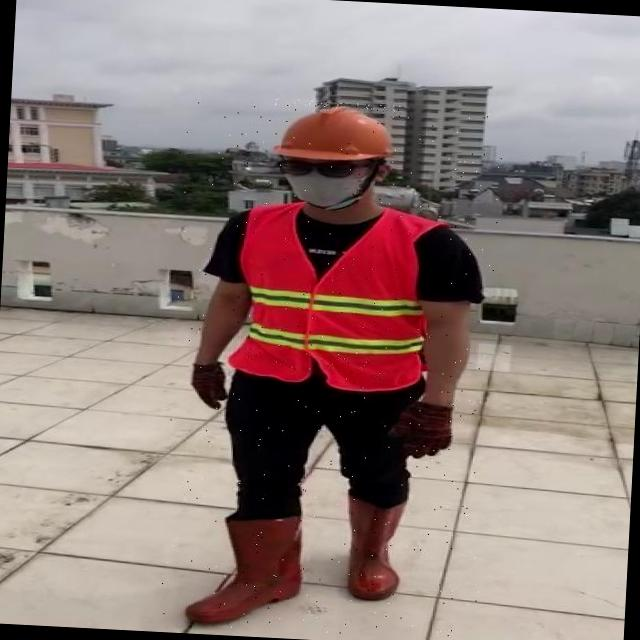boots: (186, 517, 300, 624), (347, 496, 405, 600)
gloves: (389, 401, 451, 457), (191, 362, 227, 409)
vest: (230, 204, 440, 391)
